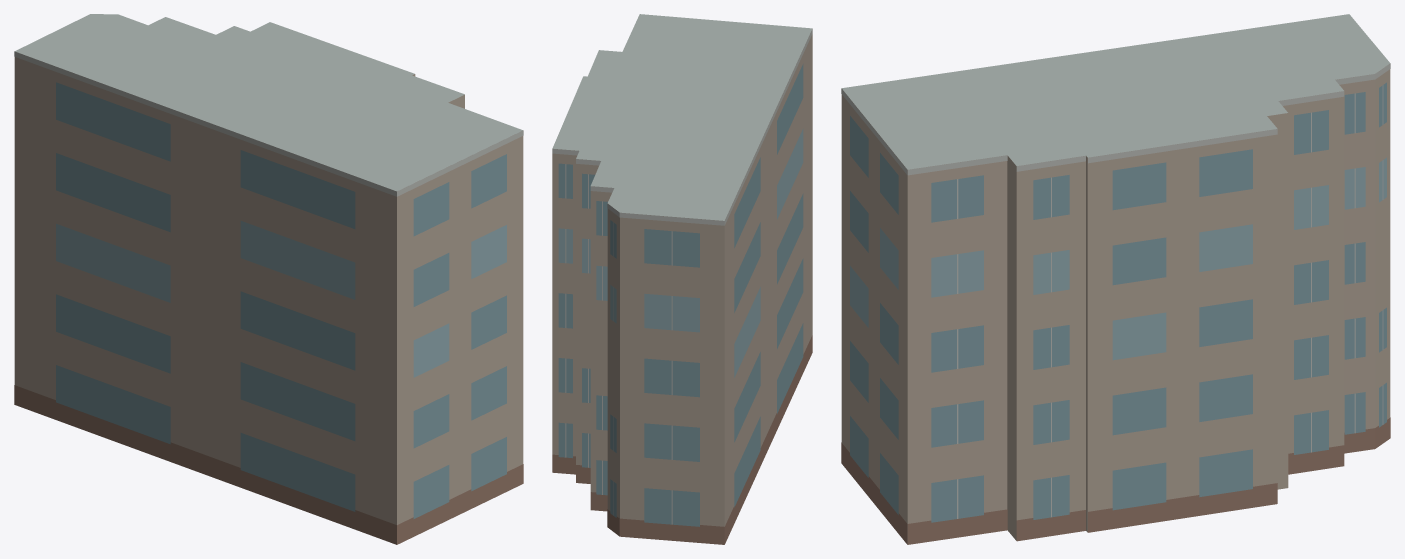
The model's file is survey-upis-32590489.glb.
3 renders of one model, left to right at view 1: azimuth 30°, elevation 25°; view 2: azimuth 150°, elevation 25°; view 3: azimuth 270°, elevation 25°, orthographic. The views are drawn at different scales.
Visible parts, largest first — view 1: survey-upis-32590489.tmp; view 2: survey-upis-32590489.tmp; view 3: survey-upis-32590489.tmp.
Boxes of the visible parts, left/top/right/bottom form: survey-upis-32590489.tmp: left=14, top=14, right=523, bottom=544; survey-upis-32590489.tmp: left=552, top=14, right=812, bottom=544; survey-upis-32590489.tmp: left=841, top=14, right=1390, bottom=544.
Bounding box in the file's own units: 14.44 × 16.2 × 21.49.
